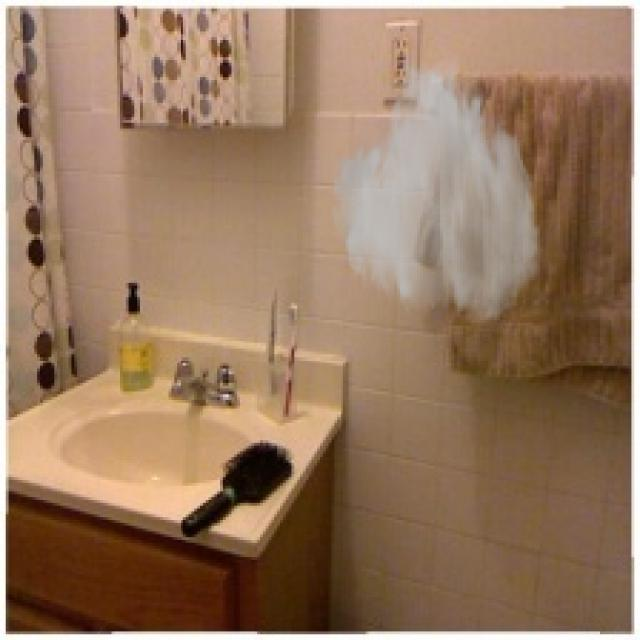Smoke: (328, 49, 543, 328)
